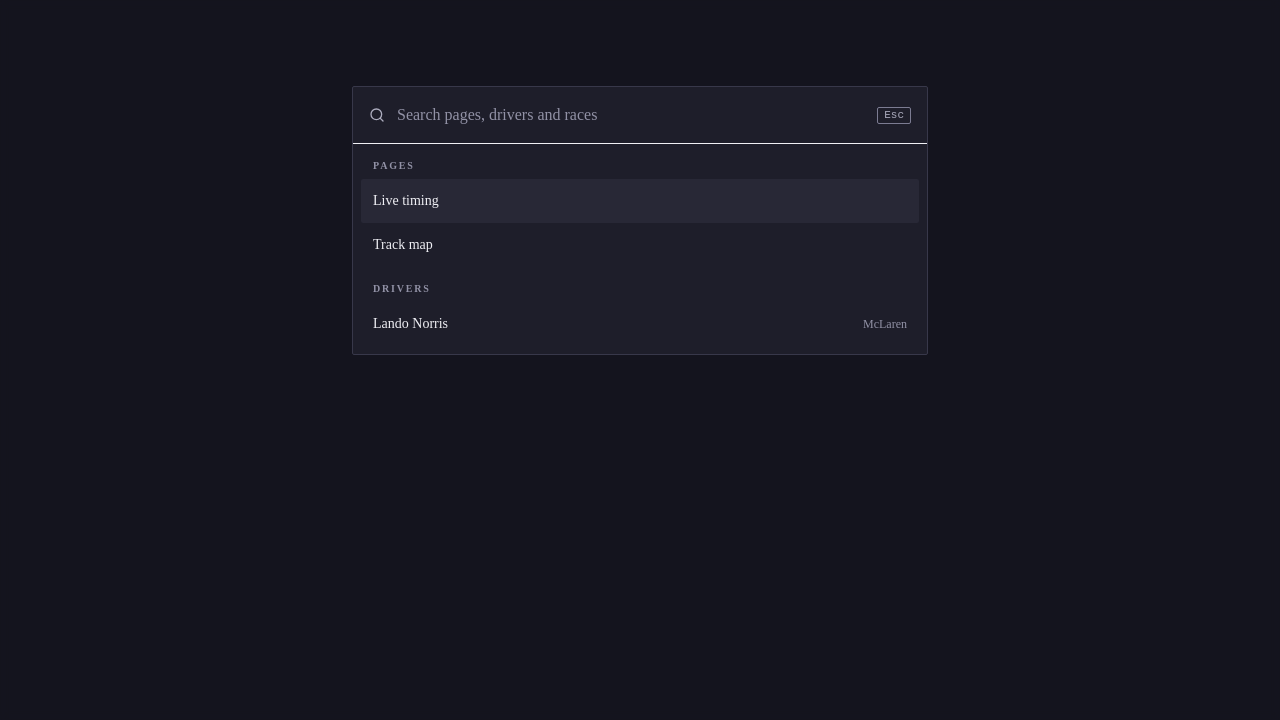
PaletteView › explains an empty result and gives direction
Type "zzzz" into the dropdown at (631, 115), box [397,87,865,143]
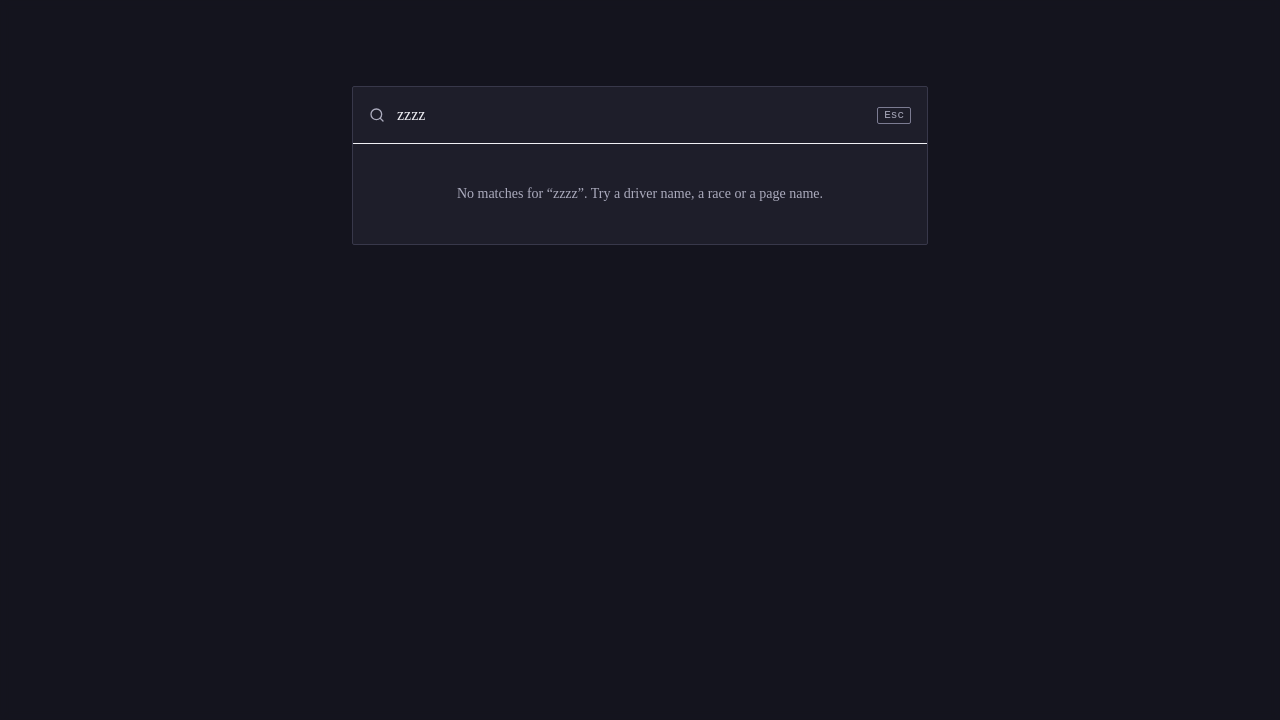
Expected: the message shows "No matches for “zzzz”", [457,186,823,201]
Expected: no options are shown
